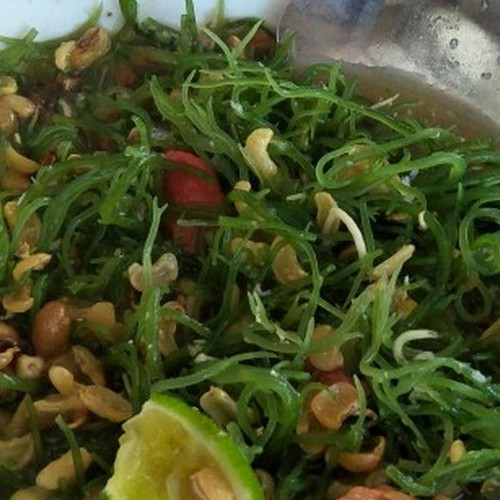bulung buni: (27, 19, 455, 462)
